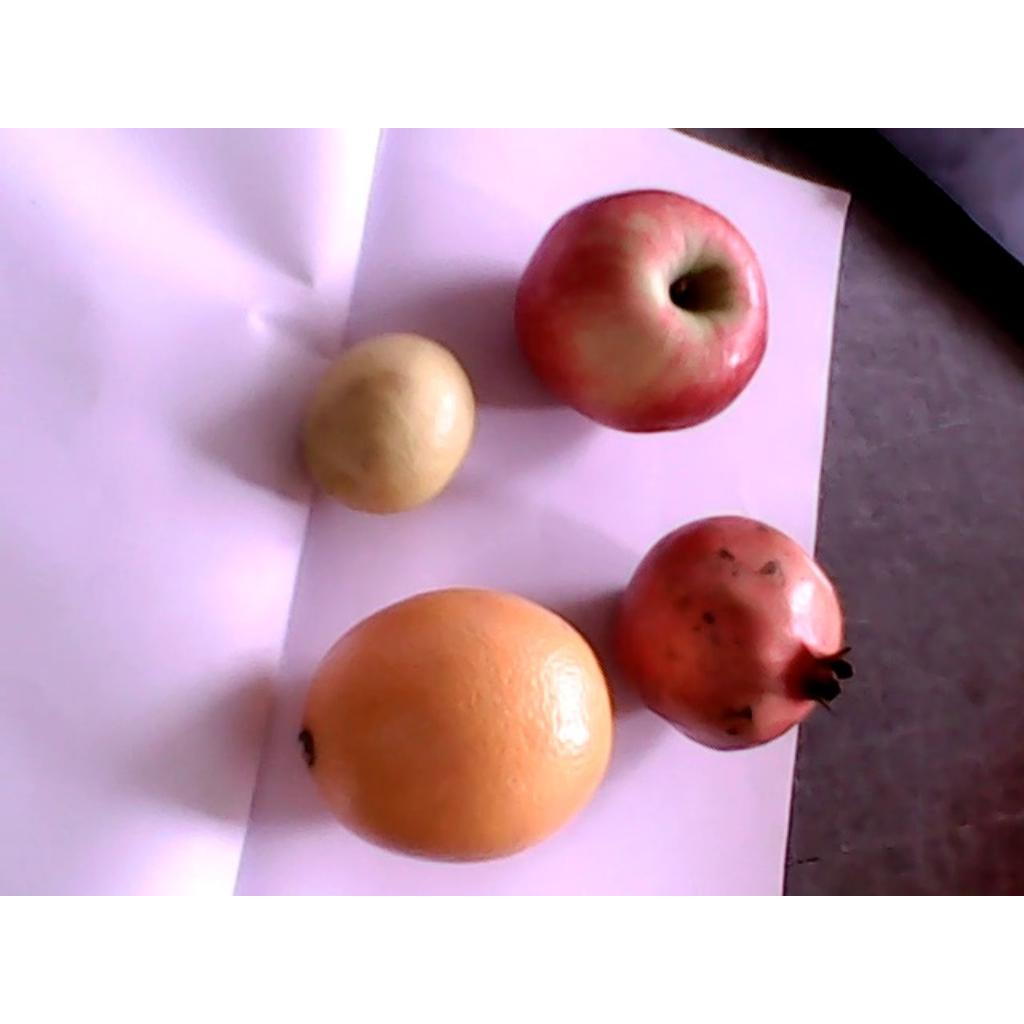apple: (513, 190, 769, 432)
lemon: (299, 330, 477, 516)
orange: (302, 586, 614, 866)
pomegranate: (609, 516, 860, 754)
